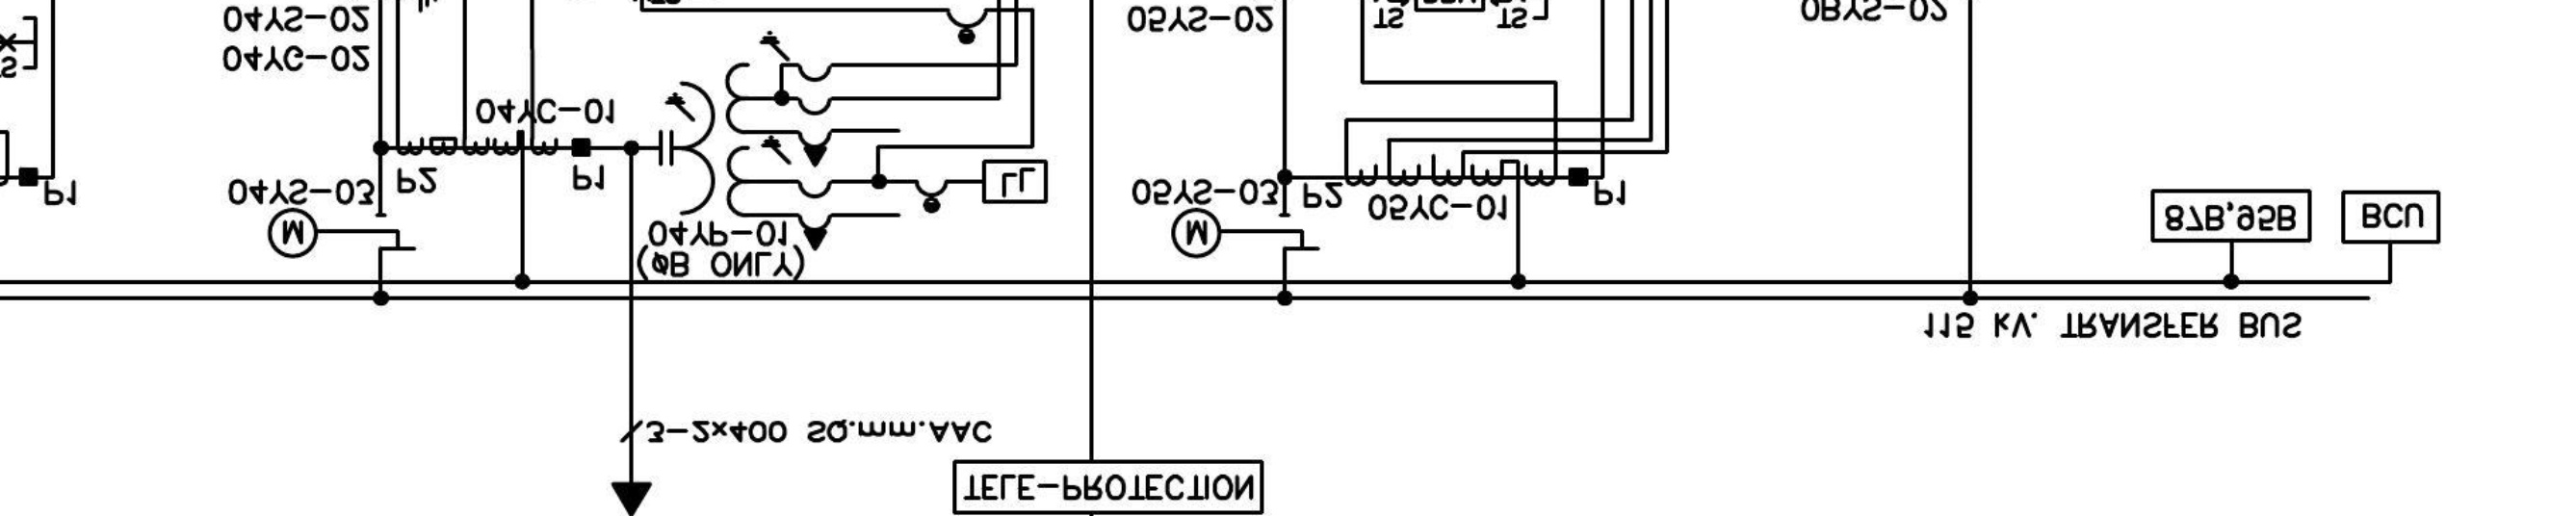115_1way_ds_w_motor: (266, 207, 417, 260), (1170, 207, 1321, 260)
115_cvt_1p: (657, 31, 836, 253)
BCU: (2339, 189, 2441, 245)
LL: (981, 159, 1048, 205)
tele_protection: (951, 460, 1265, 516)
